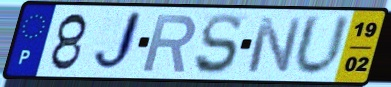8: (49, 11, 88, 71)
J: (90, 9, 146, 75)
N: (244, 15, 305, 75)
R: (140, 12, 199, 74)
S: (191, 11, 244, 76)
U: (290, 12, 353, 80)
